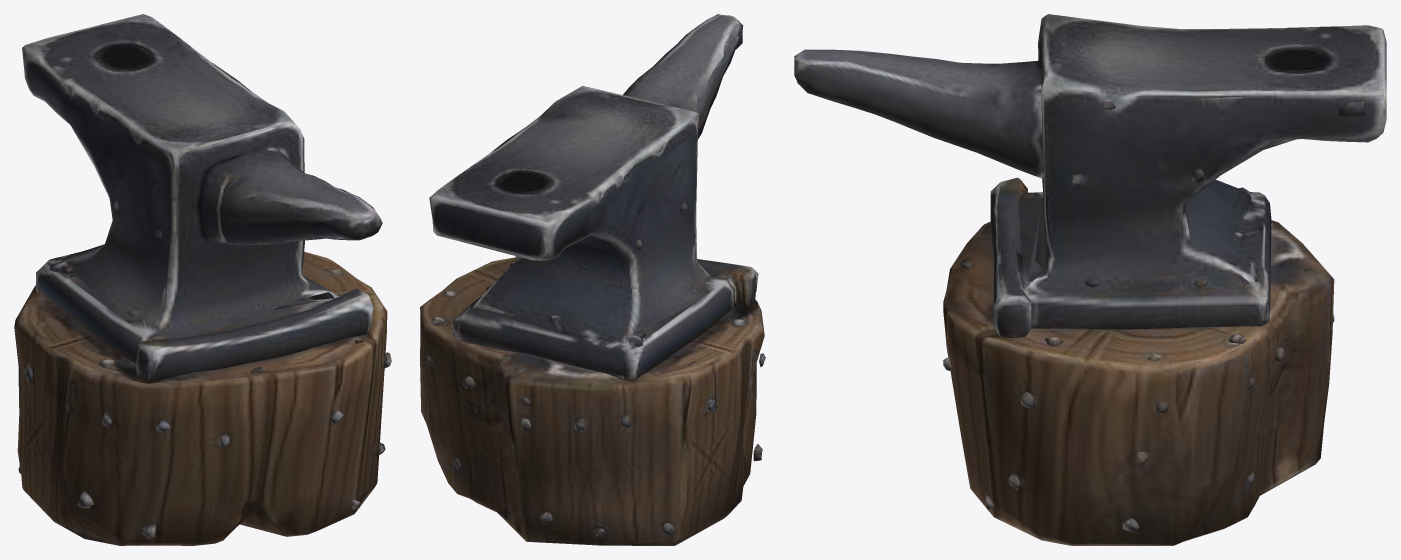
Rendered from fj_bigorna.glb.
3 views of the same model, side by side, from view 1: azimuth 30°, elevation 25°; view 2: azimuth 150°, elevation 25°; view 3: azimuth 270°, elevation 25° (orthographic). The views are drawn at different scales.
Parts seen in each view (by area): view 1: Mesh_0.2580; view 2: Mesh_0.2580; view 3: Mesh_0.2580.
Boxes of the visible parts, x1,y1,x2,y2 form: Mesh_0.2580: (14, 14, 391, 545); Mesh_0.2580: (420, 14, 765, 545); Mesh_0.2580: (794, 14, 1386, 545).
Size of the model in its own units: 0.2285 by 0.2705 by 0.3418.
Materials: 1 (1 with a texture image).
